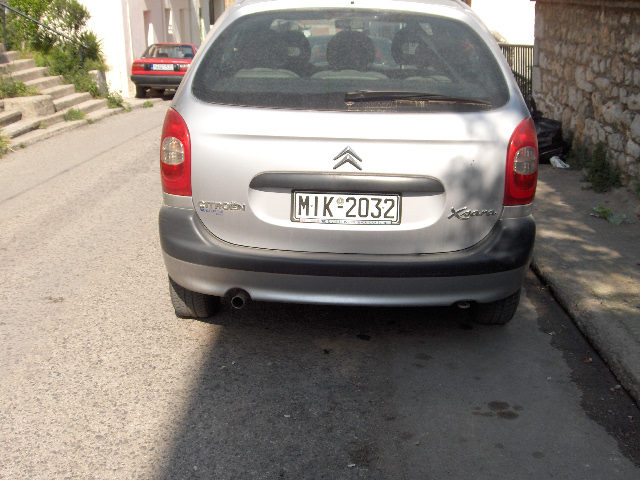licenseplate: (291, 188, 401, 224)
